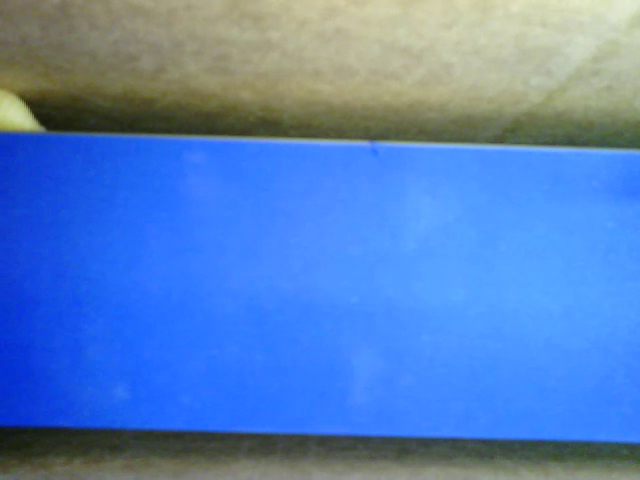shell: (1, 87, 54, 132)
